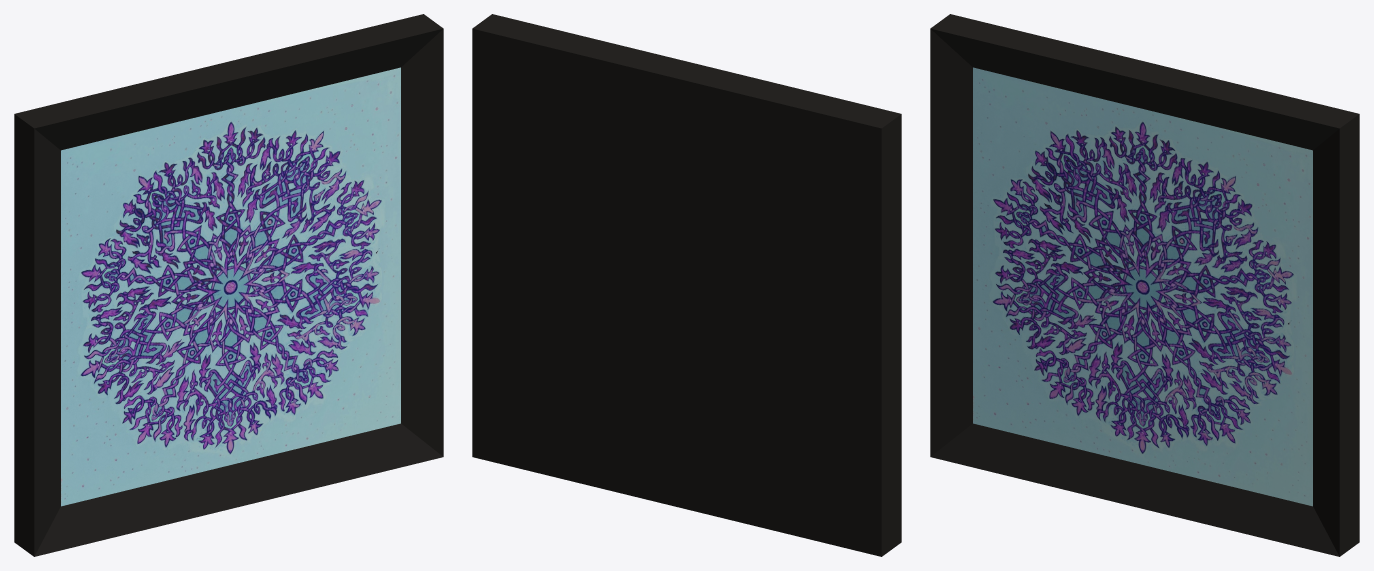
File: slipper-orchids-orchids30-lightning-blue-a3-stained-black-v2.glb
3 renders of one model, left to right at view 1: azimuth 30°, elevation 25°; view 2: azimuth 150°, elevation 25°; view 3: azimuth 330°, elevation 25°, orthographic.
Visible parts, largest first — view 1: FramedPrint; view 2: FramedPrint; view 3: FramedPrint.
Boxes of the visible parts, x1,y1,x2,y2 form: FramedPrint: (14, 14, 443, 556); FramedPrint: (472, 14, 901, 556); FramedPrint: (930, 14, 1359, 556).
Size of the model in its own units: 0.355 by 0.355 by 0.03.
2 materials, 1 textured.
